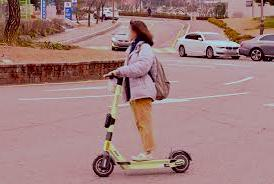nonhelmet: (90, 19, 193, 178)
